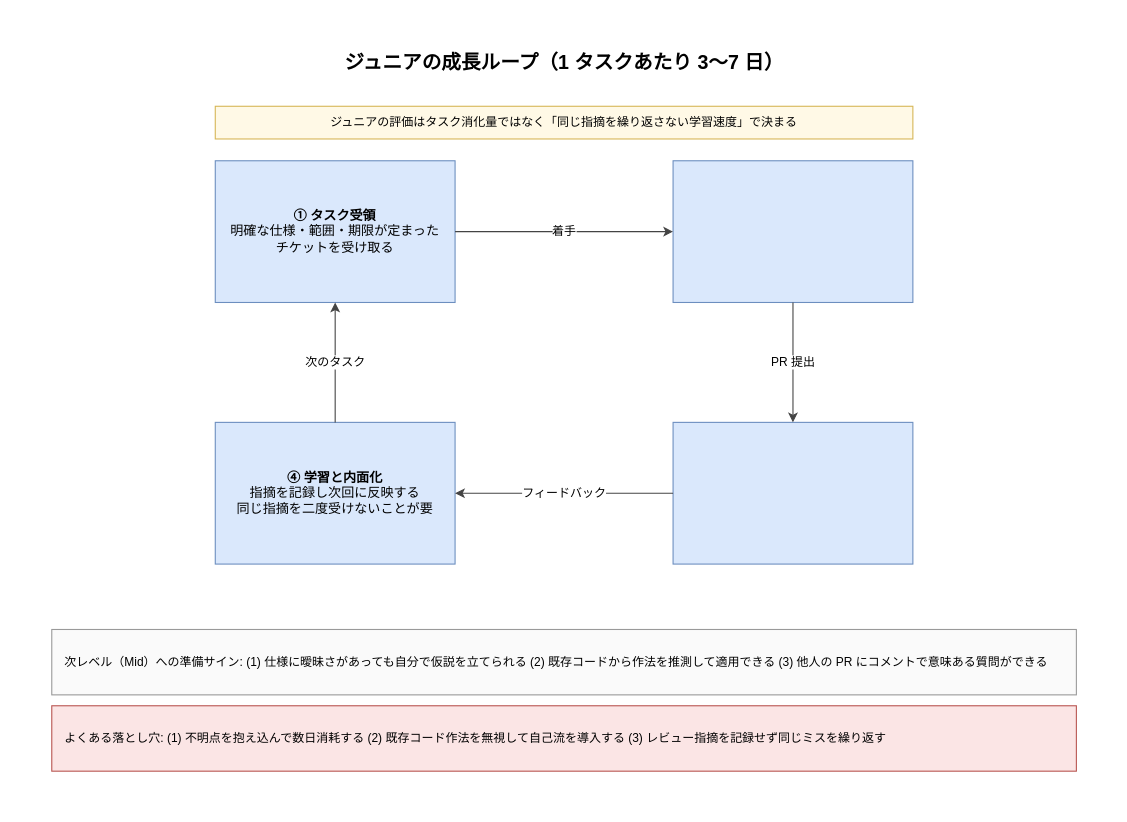
Some shapes in this 1127 by 822 pixel diagram are drawn without their labels. Each missing label, with the centre of its shape:
② 実装 既存コードの作法を倣う 不明点はシニアに早めに質問する: pixel 792 231
③ コードレビュー シニアから指摘を受ける 設計・命名・テストの観点を学ぶ: pixel 792 492
